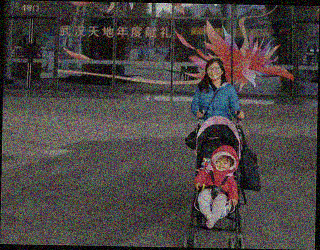without_mask: (207, 63, 222, 78), (216, 155, 230, 170)
